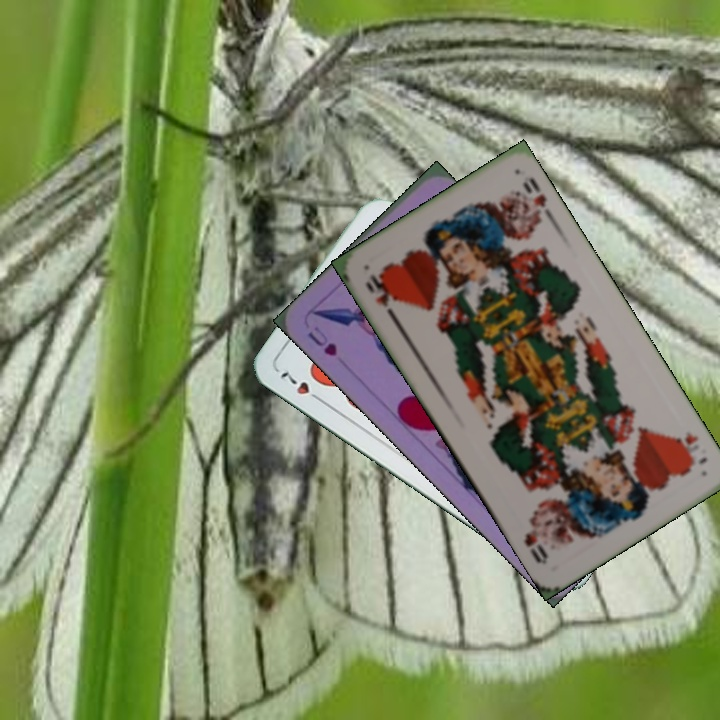H7: (275, 367, 327, 406)
HO: (361, 270, 400, 323), (670, 427, 710, 468)
HU: (303, 322, 340, 359)
